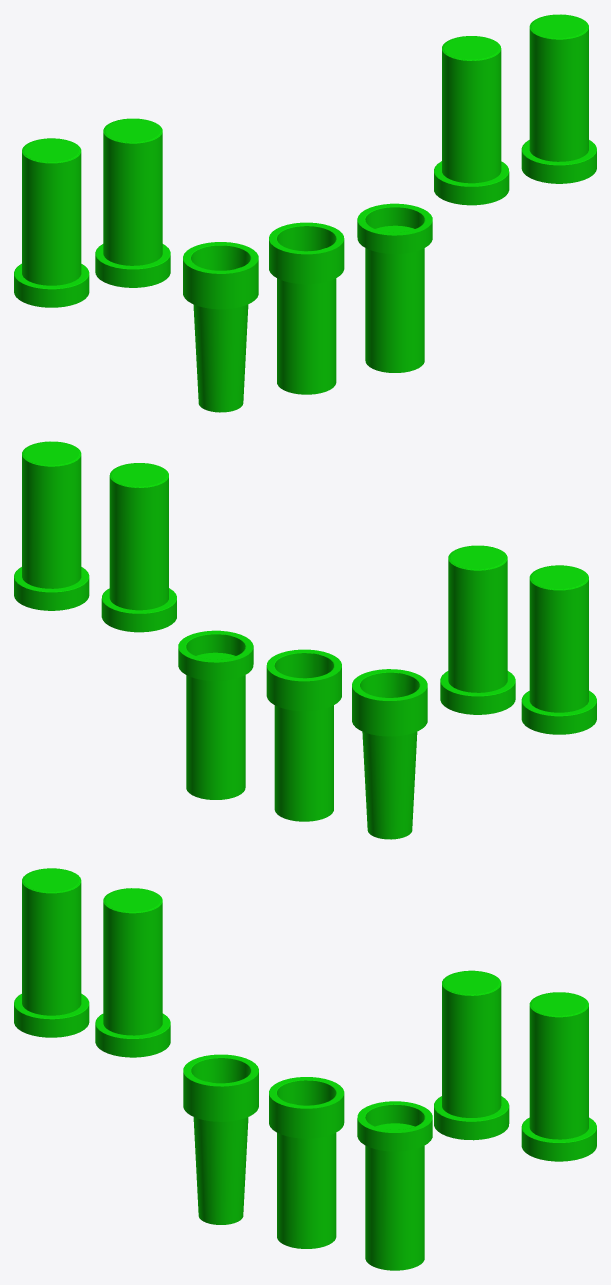
File: Pipe.fbx
3 views of the same model, one above another, from view 1: azimuth 30°, elevation 25°; view 2: azimuth 150°, elevation 25°; view 3: azimuth 330°, elevation 25° (orthographic).
Parts seen in each view (by area): view 1: Cylinder, Cylinder.006, Cylinder.007, Cylinder.001, Cylinder.005, Cylinder.004, Cylinder.003; view 2: Cylinder, Cylinder.006, Cylinder.007, Cylinder.001, Cylinder.005, Cylinder.004, Cylinder.003; view 3: Cylinder, Cylinder.005, Cylinder.007, Cylinder.001, Cylinder.006, Cylinder.004, Cylinder.003.
Boxes of the visible parts, <box> form: Cylinder: <box>269,222,344,394</box>; Cylinder.006: <box>95,118,170,287</box>; Cylinder.007: <box>14,138,89,307</box>; Cylinder.001: <box>357,203,432,372</box>; Cylinder.005: <box>521,14,596,183</box>; Cylinder.004: <box>434,36,509,205</box>; Cylinder.003: <box>183,242,258,412</box>; Cylinder: <box>266,649,341,821</box>; Cylinder.006: <box>440,545,515,714</box>; Cylinder.007: <box>521,565,596,734</box>; Cylinder.001: <box>178,630,253,799</box>; Cylinder.005: <box>14,441,89,610</box>; Cylinder.004: <box>101,463,176,632</box>; Cylinder.003: <box>352,669,427,839</box>; Cylinder: <box>269,1077,344,1248</box>; Cylinder.005: <box>521,992,596,1161</box>; Cylinder.007: <box>14,868,89,1037</box>; Cylinder.001: <box>357,1101,432,1270</box>; Cylinder.006: <box>95,888,170,1057</box>; Cylinder.004: <box>434,970,509,1140</box>; Cylinder.003: <box>183,1054,258,1224</box>.
Size of the model in its own units: 2333 by 1145 by 268.
